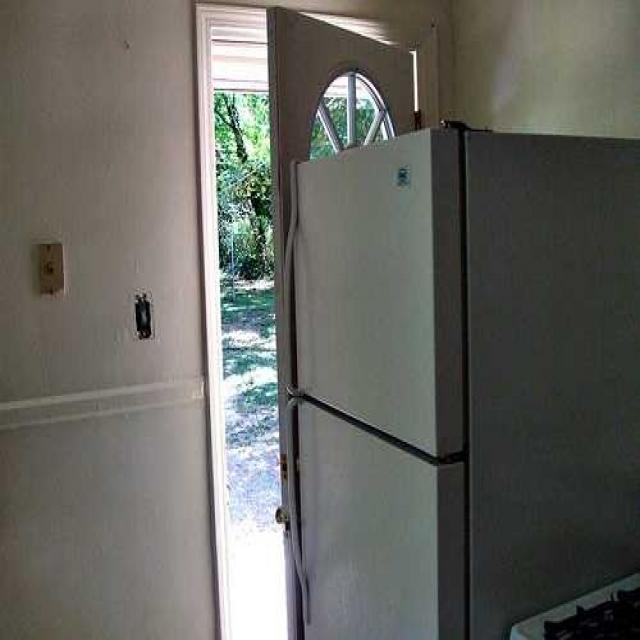refrigerator: (298, 131, 640, 639)
